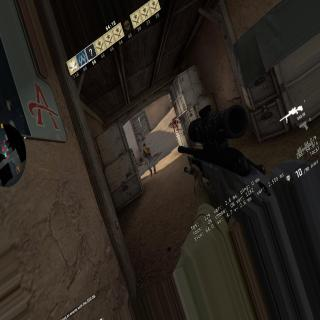T-Body: (141, 141, 156, 175)
T-Head: (143, 142, 146, 149)
